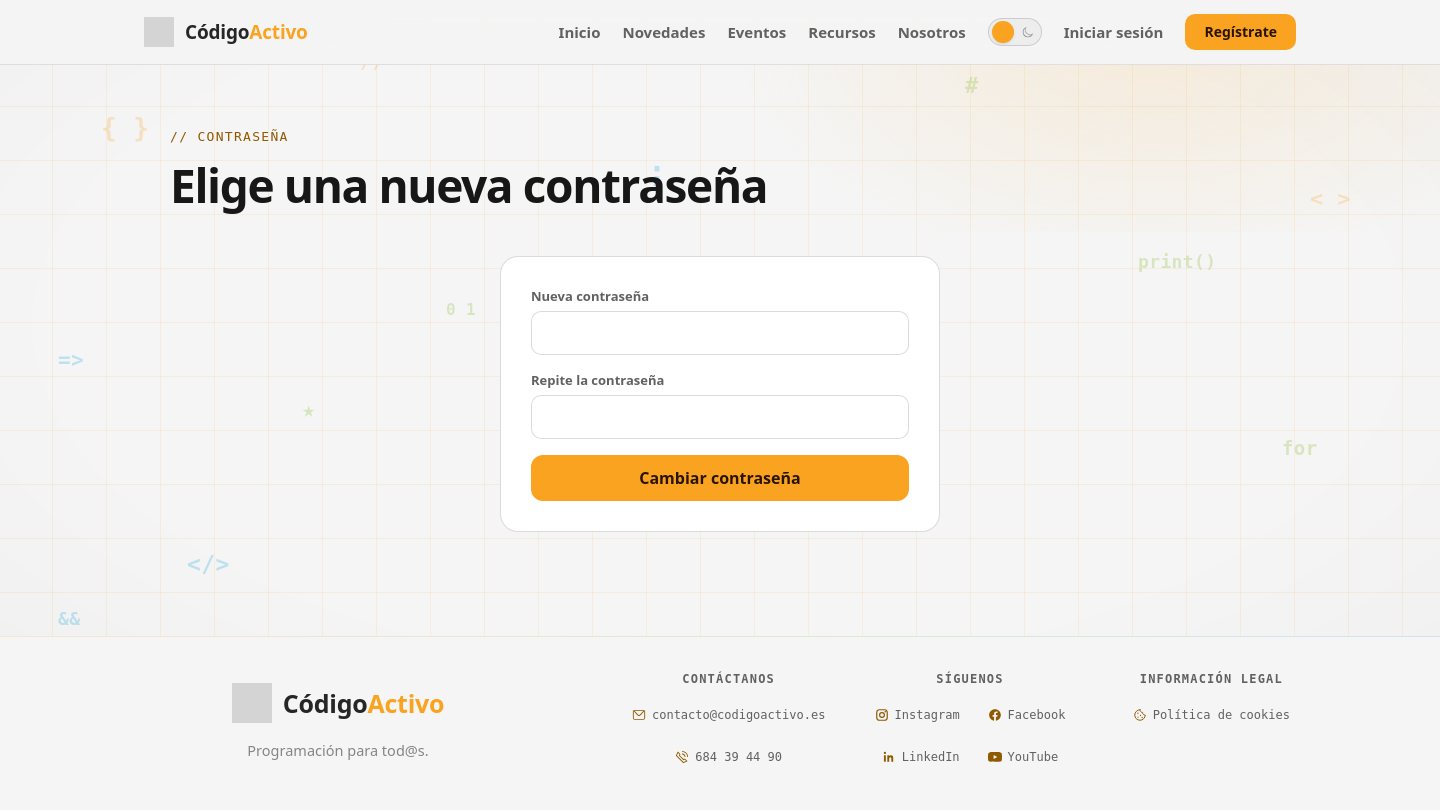
reset password page › changes the password and offers to log in
This screenshot has width=1440, height=810.
Type "correct-horse-battery" into the password field with id "reset-password" at (720, 333), box top-left (545, 312), bottom-right (895, 354)
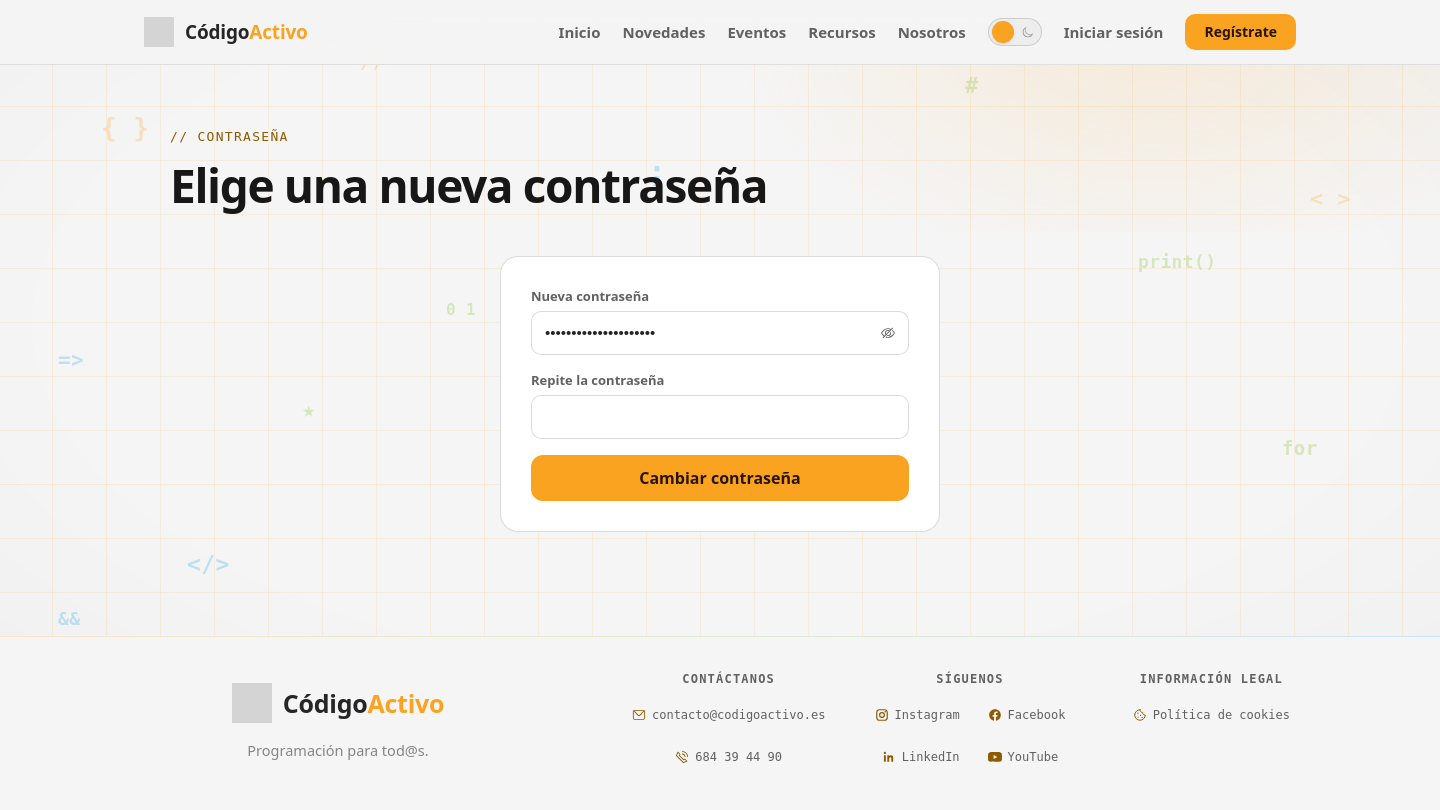
Type "correct-horse-battery" into the password field with id "reset-password-confirm" at (720, 417), box top-left (545, 396), bottom-right (895, 438)
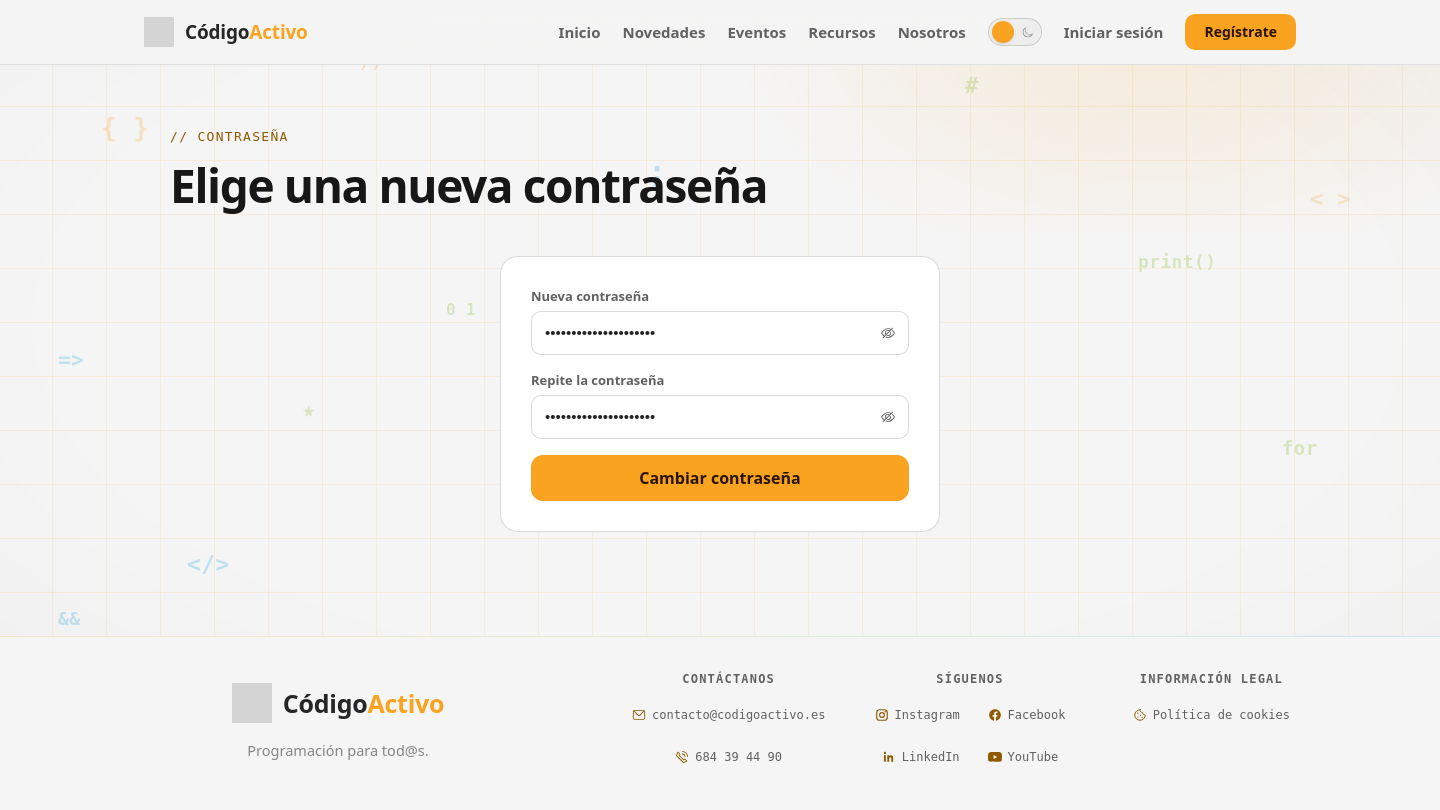
Submit the form, box top-left (500, 256), bottom-right (940, 532)
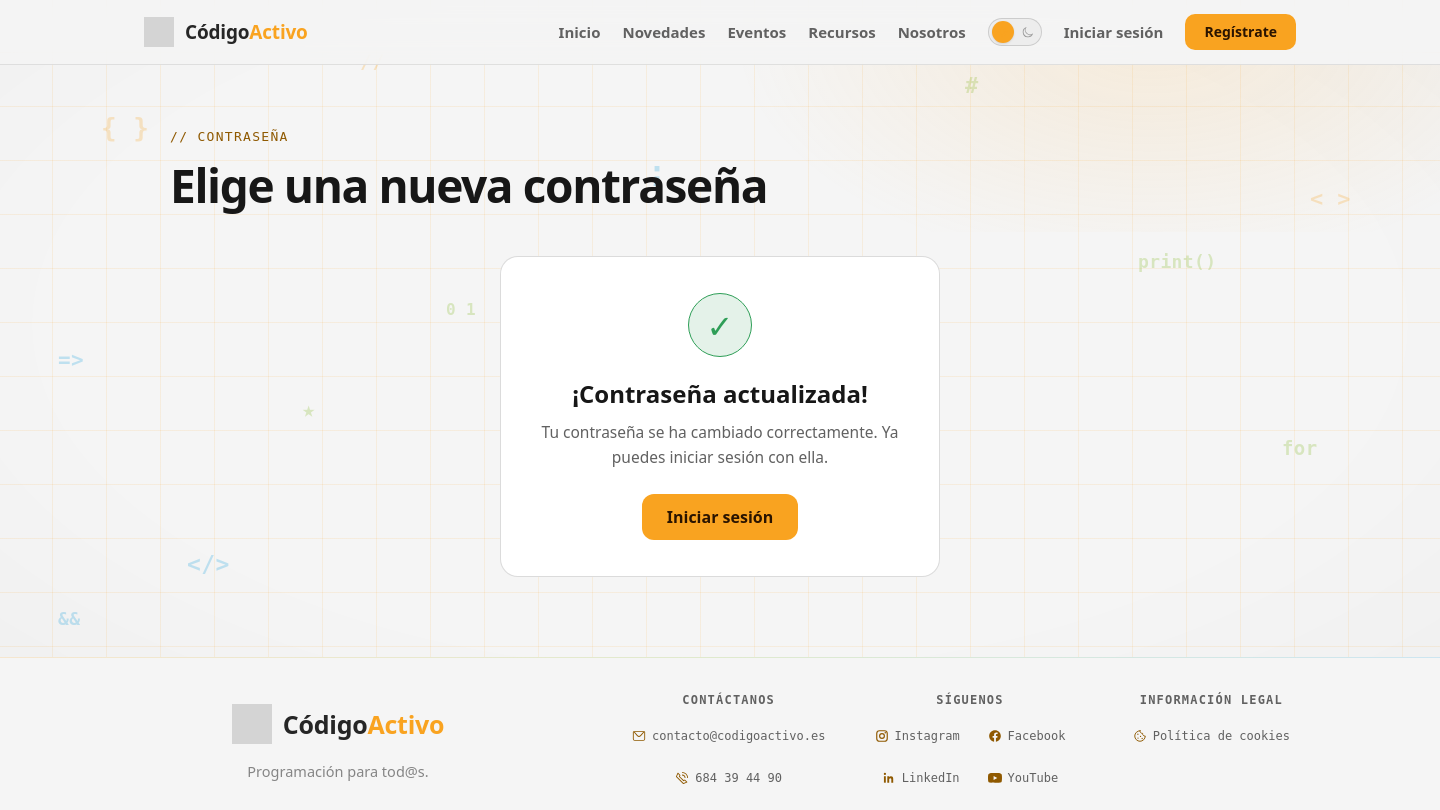
Expected: the text "¡Contraseña actualizada!" is shown, top-left (572, 377), bottom-right (868, 410)
